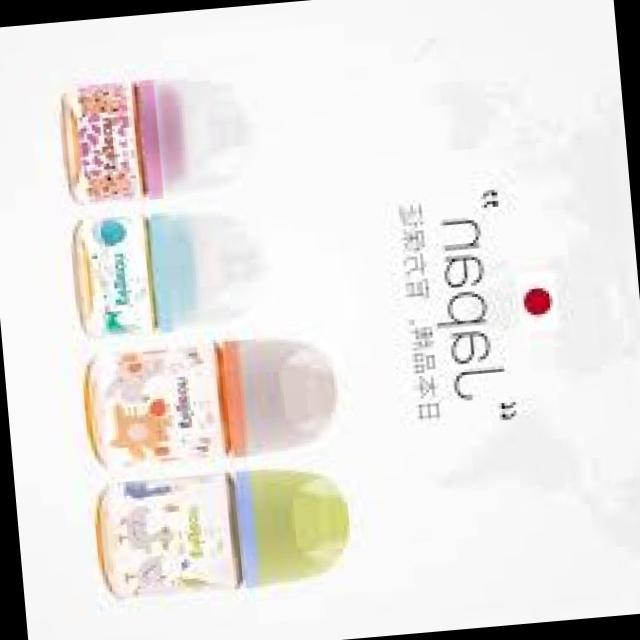good: (72, 452, 344, 606), (68, 327, 340, 475)
